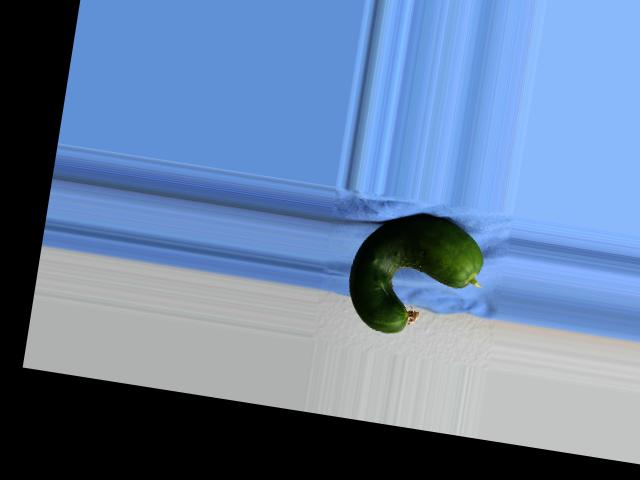cucumber: (342, 204, 489, 346)
